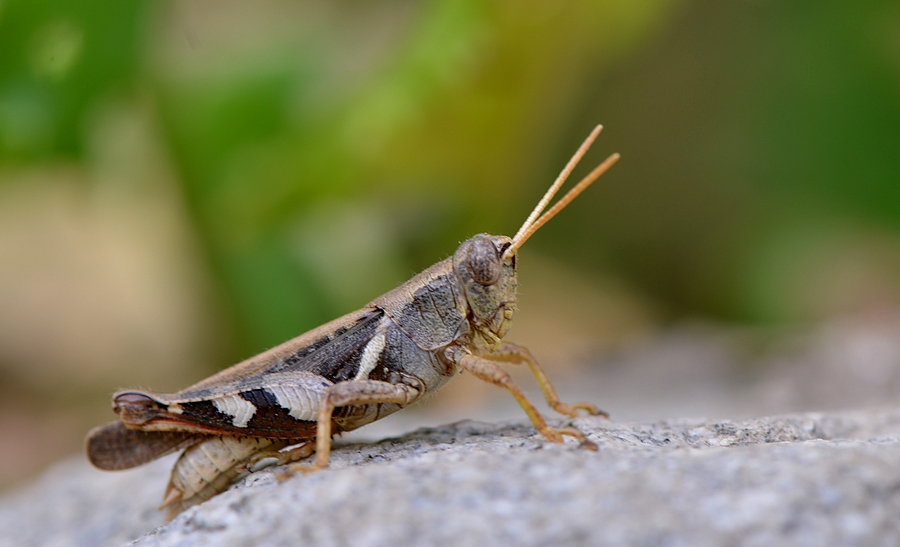huangchong: (79, 162, 632, 488)
